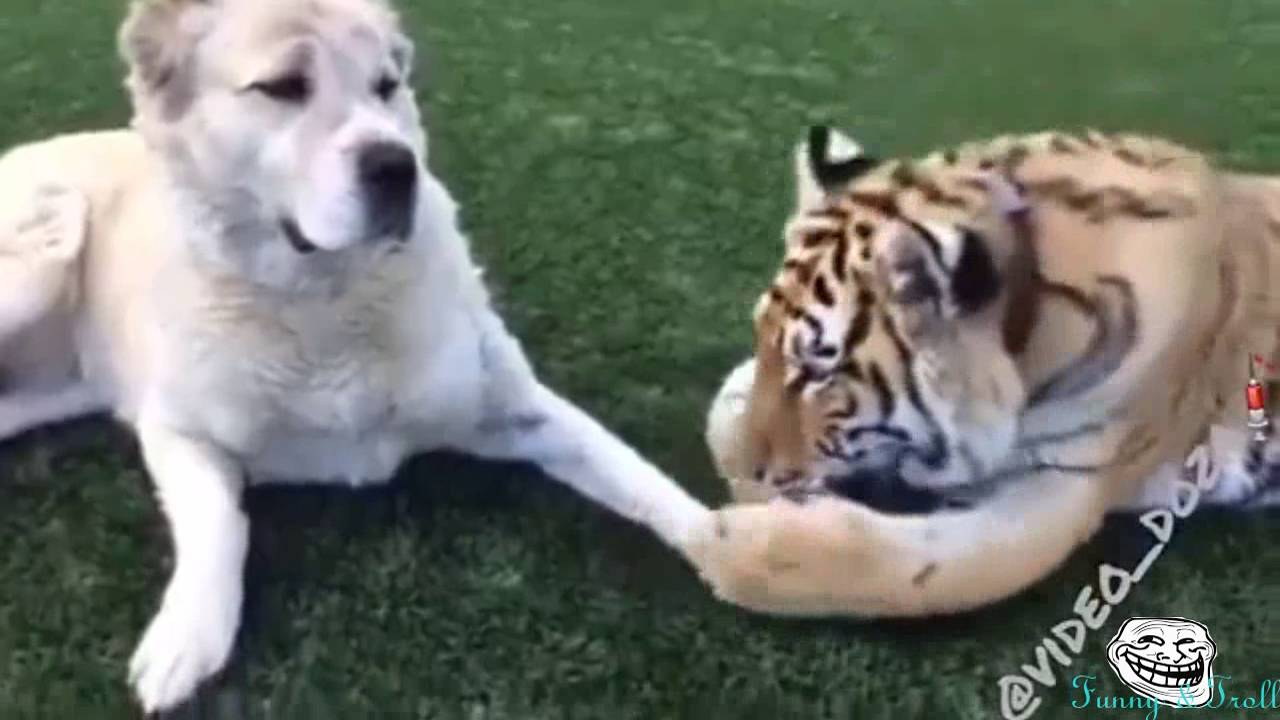dog: (1, 22, 694, 692)
tiger: (674, 128, 1280, 630)
